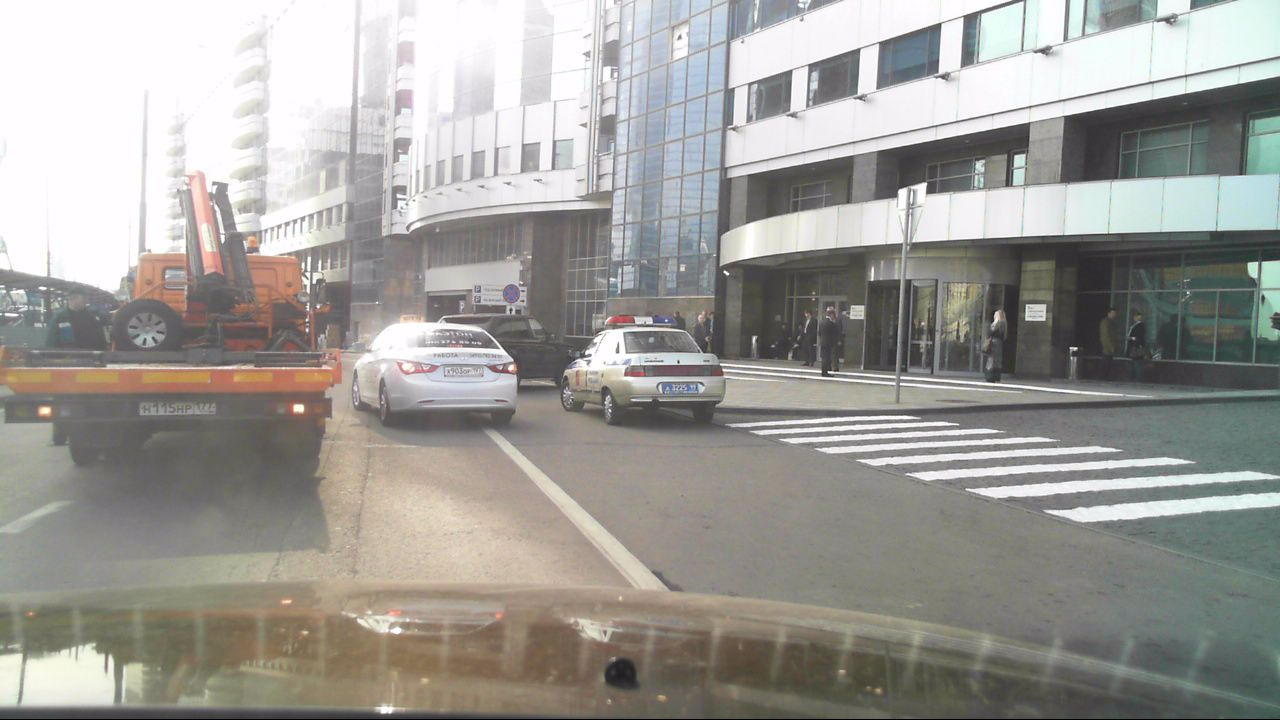No Parking: (505, 283, 523, 306)
